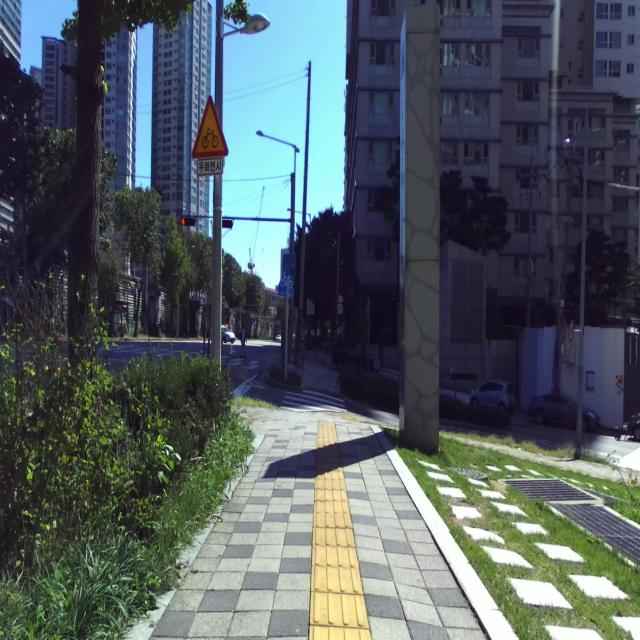횡단보도: (280, 390, 347, 412)
